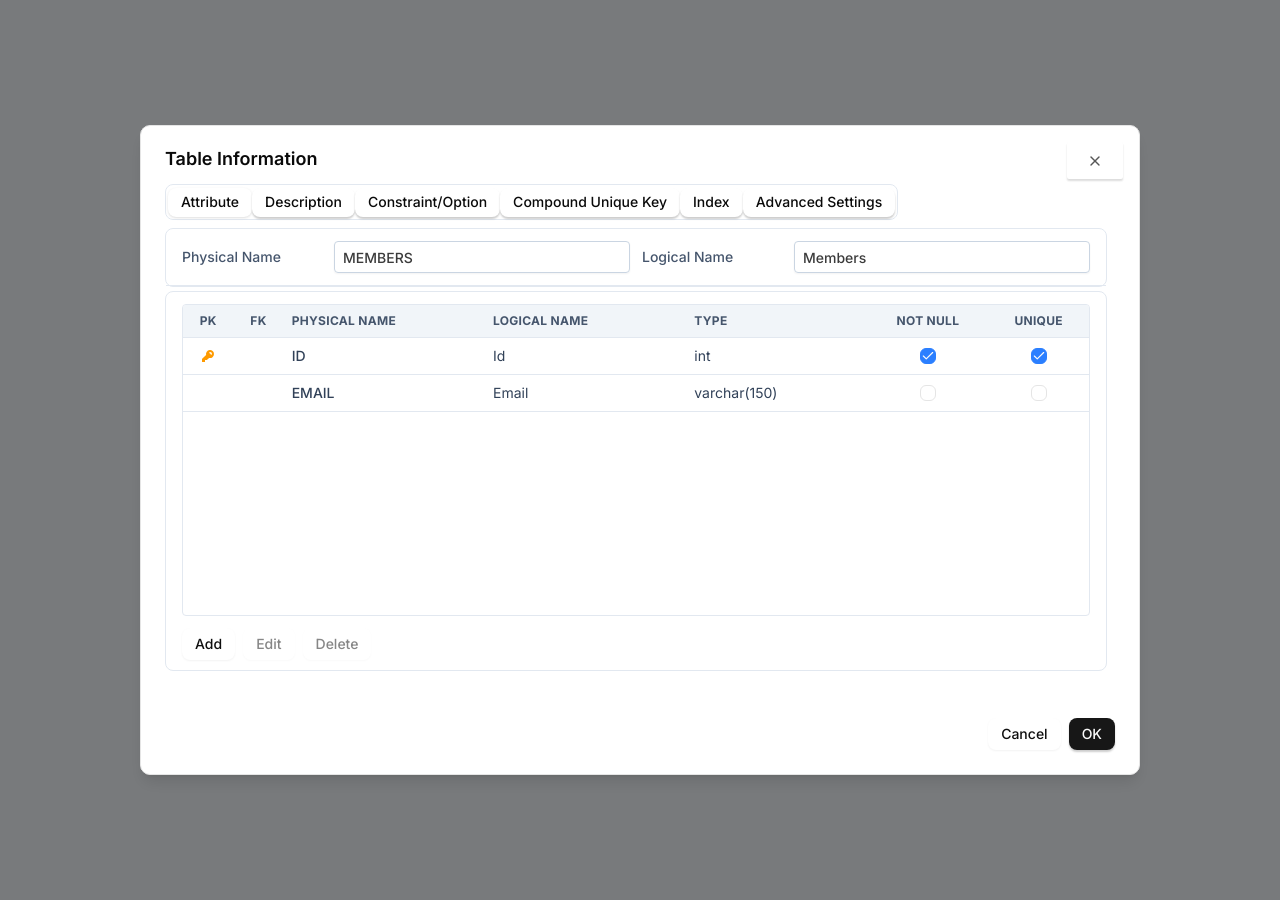
when editing is allowed › updates enum args when the column type supports it
The image size is (1280, 900).
Double-click the row "EMAIL Email varchar(150)" at (313, 392), box [183,374,1089,412]
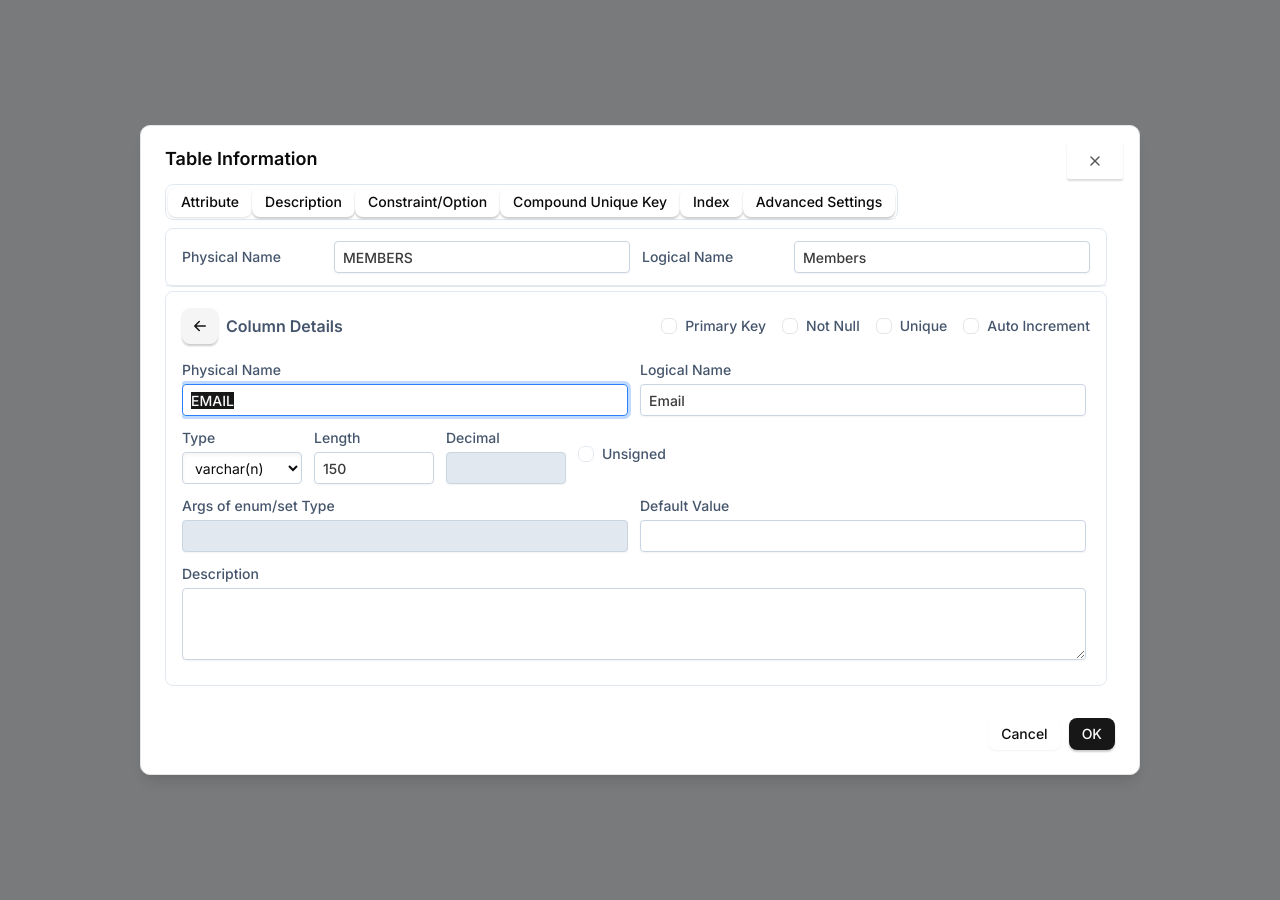
Select "enum" in the dropdown labelled "Type" at (242, 468), box [182,452,302,484]
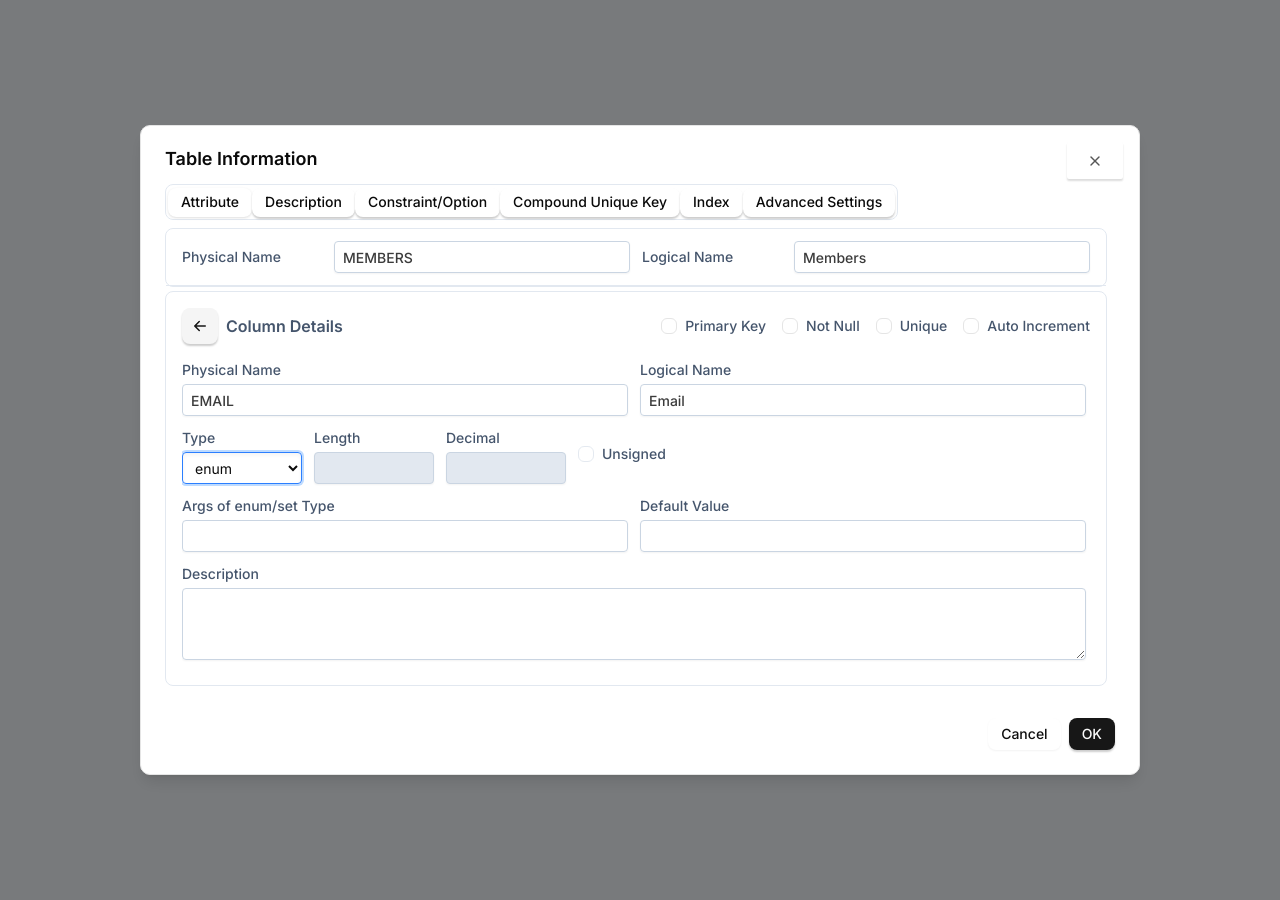
Type "active,inactive,pending" into the field labelled "Args of enum/set Type" at (405, 536), box [182,520,628,552]
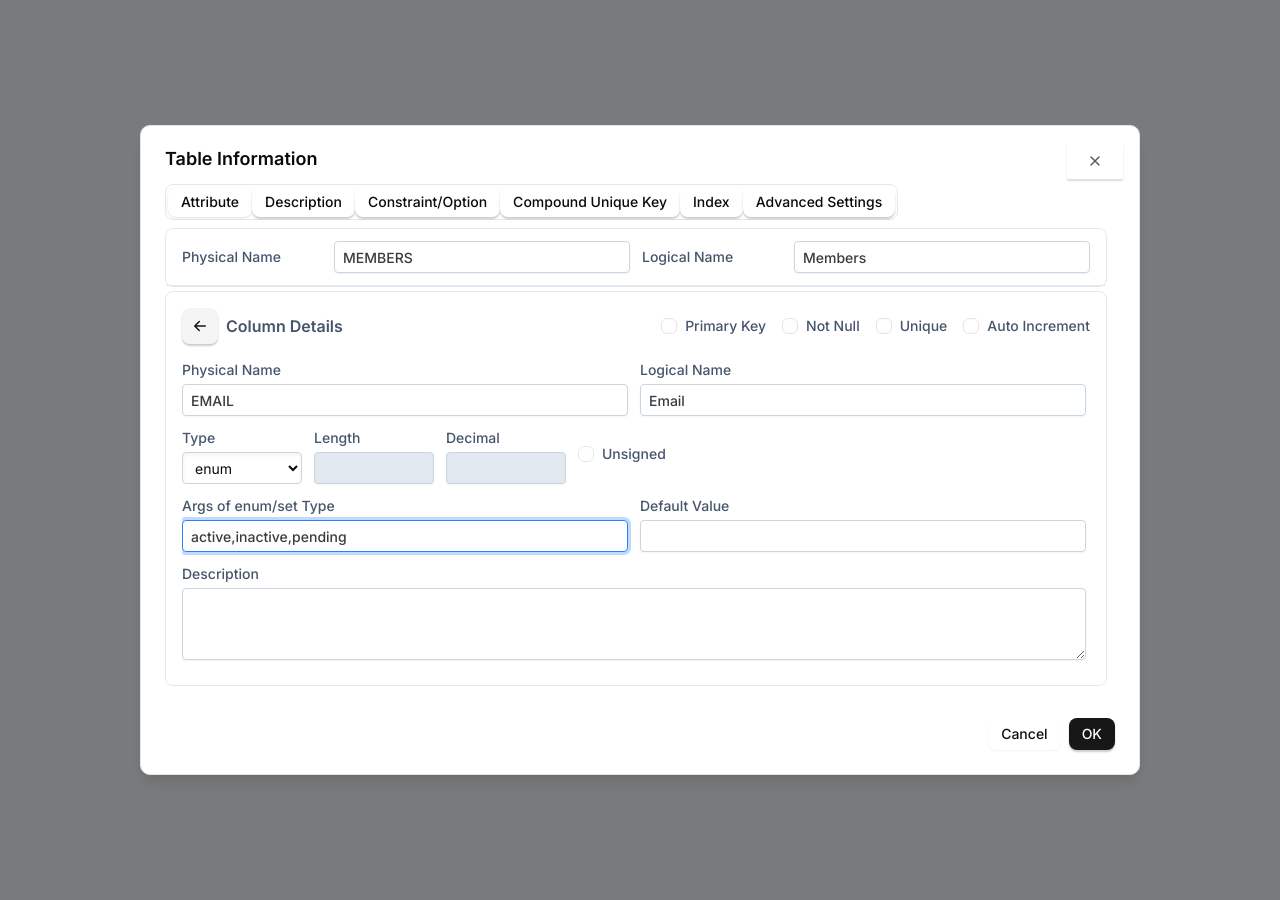
Click the button named "Back to Columns" at (200, 326), box [182,308,218,344]
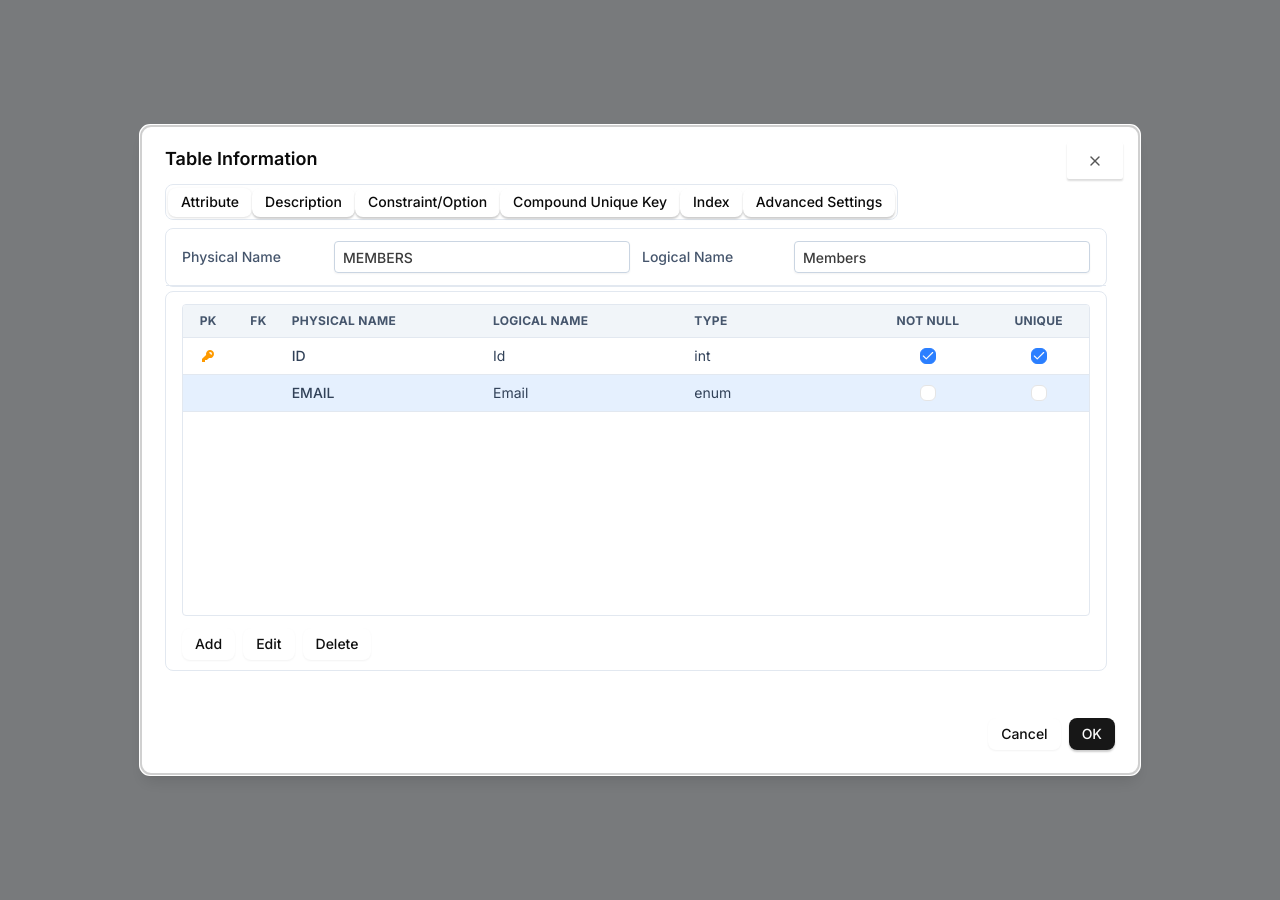
Double-click the row "EMAIL Email enum" at (636, 393), box [183,374,1089,412]
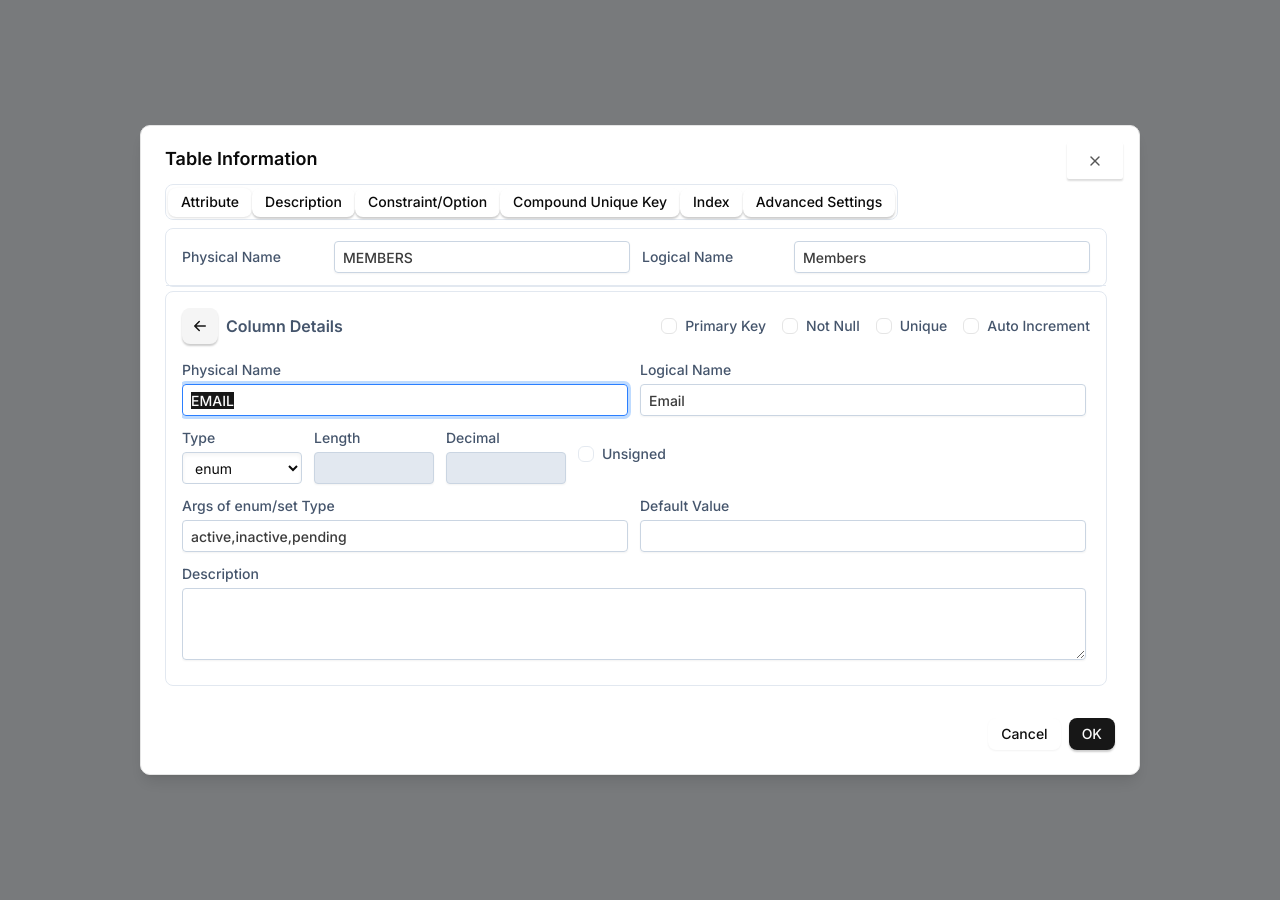
Now the dropdown labelled "Type" shows "enum", box [182,452,302,484]
Now the field labelled "Args of enum/set Type" holds "active,inactive,pending", box [182,520,628,552]
